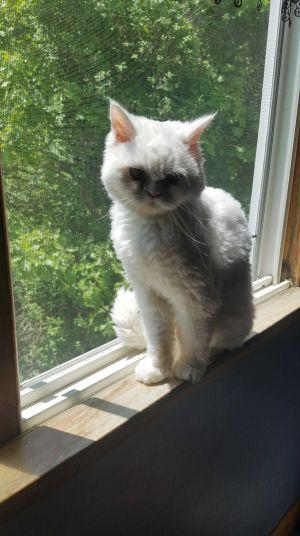persian: (86, 95, 223, 229)
